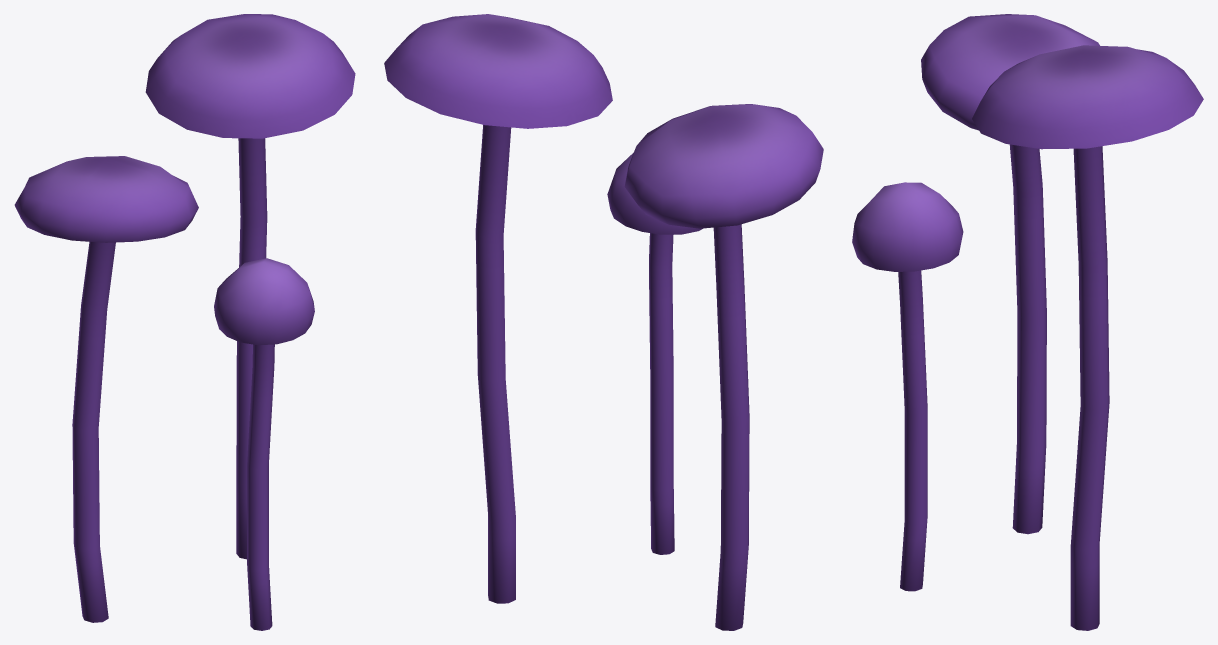
Rendered from Amethyst_Deceiver_Group_2.glb.
3 views of the same model, side by side, from view 1: azimuth 30°, elevation 25°; view 2: azimuth 150°, elevation 25°; view 3: azimuth 270°, elevation 25° (orthographic). The views are drawn at different scales.
Parts seen in each view (by area): view 1: Amethyst_Deceiver_Group_2; view 2: Amethyst_Deceiver_Group_2; view 3: Amethyst_Deceiver_Group_2.
Boxes of the visible parts, x1,y1,x2,y2 form: Amethyst_Deceiver_Group_2: (14,14,355,630); Amethyst_Deceiver_Group_2: (384,14,823,630); Amethyst_Deceiver_Group_2: (852,14,1203,630).
Bounding box in the file's own units: 0.2139 × 0.3062 × 0.1718.
Materials: 1 (1 with a texture image).
